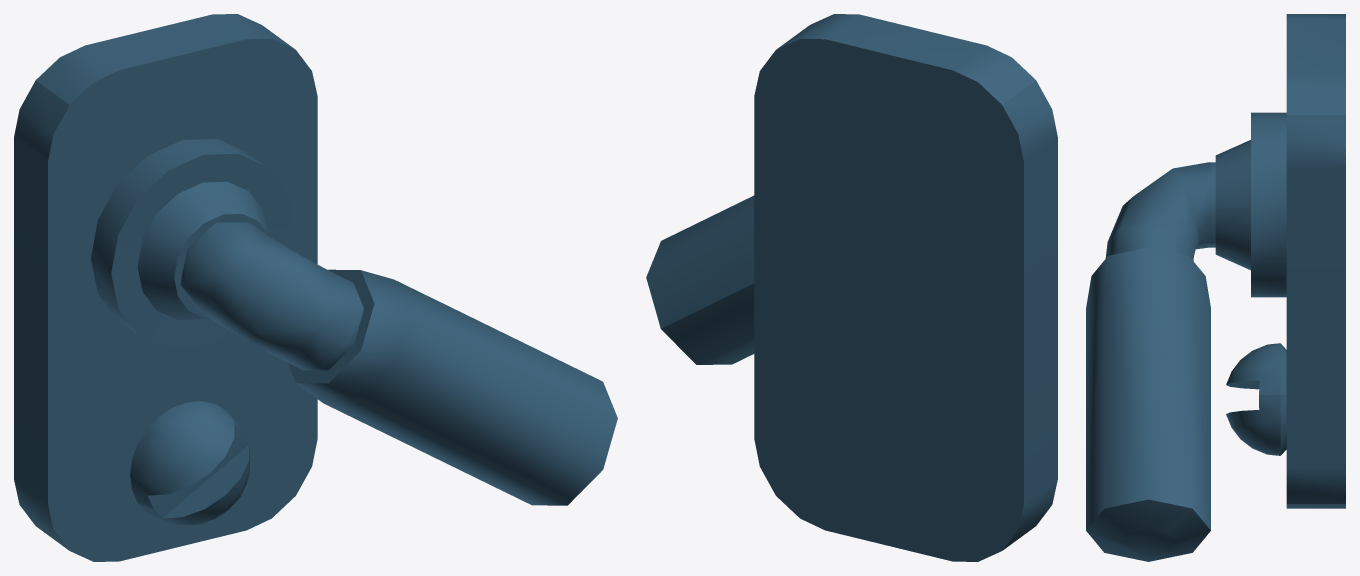
Rendered from obj_rewards_doorhandle_pose0.fbx.
3 views of the same model, side by side, from view 1: azimuth 30°, elevation 25°; view 2: azimuth 150°, elevation 25°; view 3: azimuth 270°, elevation 25° (orthographic). The views are drawn at different scales.
Visible parts, largest first — view 1: part2_lp.001, part4_lp.001; view 2: part2_lp.001, part4_lp.001; view 3: part2_lp.001, part4_lp.001.
Boxes of the visible parts, bbox=[...] form: part2_lp.001: bbox=[14, 14, 317, 561]; part4_lp.001: bbox=[180, 222, 617, 505]; part2_lp.001: bbox=[754, 14, 1057, 561]; part4_lp.001: bbox=[646, 195, 754, 364]; part2_lp.001: bbox=[1215, 14, 1345, 508]; part4_lp.001: bbox=[1086, 162, 1215, 561].
Size of the model in its own units: 1.77 by 1.74 by 0.9573.
